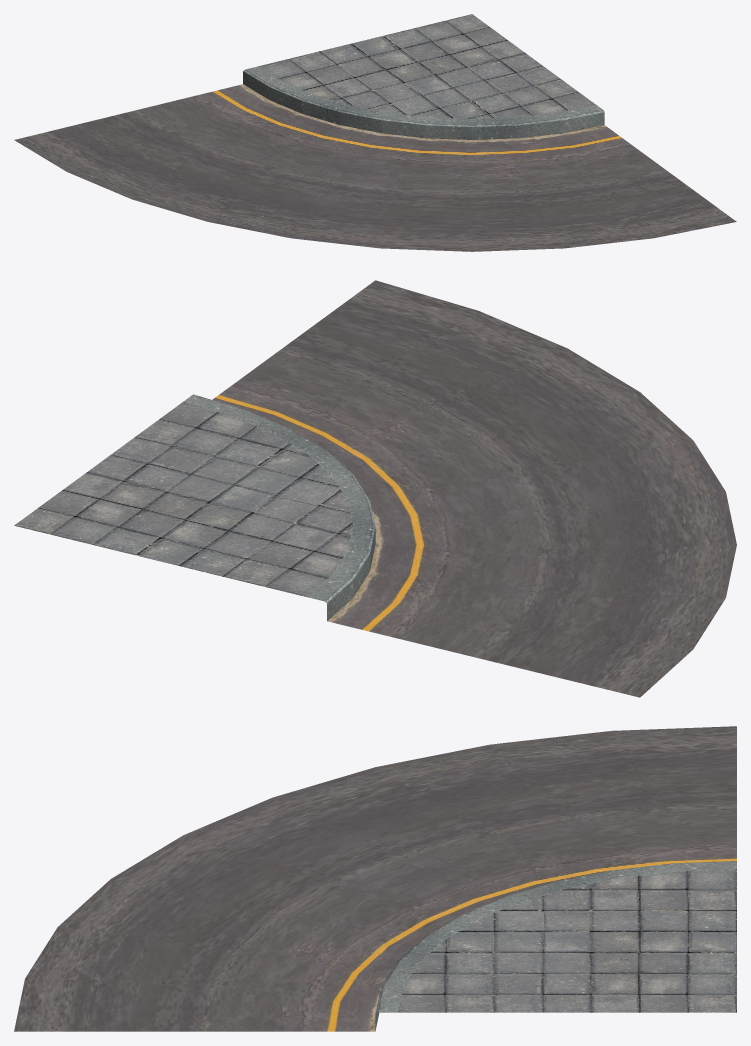
File: road-corner3.obj
3 renders of one model, top to bottom at view 1: azimuth 30°, elevation 25°; view 2: azimuth 150°, elevation 25°; view 3: azimuth 270°, elevation 25°, orthographic. The views are drawn at different scales.
Visible parts, largest first — view 1: Plane.009; view 2: Plane.009; view 3: Plane.009.
Boxes of the visible parts, x1,y1,x2,y2 form: Plane.009: (14, 14, 736, 251); Plane.009: (14, 280, 736, 697); Plane.009: (14, 726, 736, 1031).
Bounding box in the file's own units: 12 × 0.3524 × 12.
Materials: 5 (4 with a texture image).
